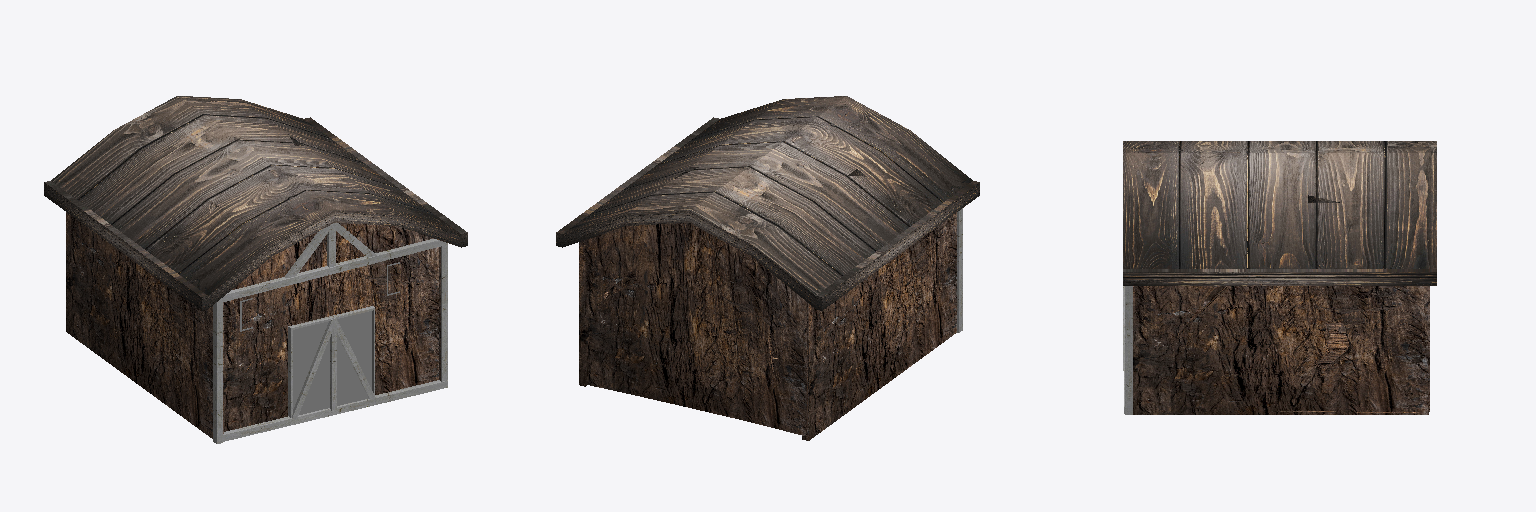
3 views of the same model, side by side, from view 1: azimuth 30°, elevation 25°; view 2: azimuth 150°, elevation 25°; view 3: azimuth 270°, elevation 25° (orthographic).
Visible parts, largest first — view 1: barn_roof_final, barn_roof, hole, door, querbalkenWR02, querbalkenWR, querbalkenSR02, querbalkenSR, edges_door, querbalkenSR005, querbalkenSR04, querbalkenSR006 (+1 smaller); view 2: barn_roof_final, barn_roof, hole, querbalkenSR02; view 3: barn_roof_final, hole_outerwall_2, barn_roof, querbalkenSR.
Part boxes in pixels (left/top/right/bottom): barn_roof_final: left=44, top=96, right=467, bottom=310; barn_roof: left=224, top=223, right=438, bottom=431; hole: left=66, top=212, right=223, bottom=438; door: left=293, top=310, right=373, bottom=414; querbalkenWR02: left=218, top=239, right=447, bottom=302; querbalkenWR: left=213, top=380, right=447, bottom=442; querbalkenSR02: left=213, top=298, right=222, bottom=443; querbalkenSR: left=441, top=245, right=447, bottom=381; edges_door: left=288, top=306, right=374, bottom=417; querbalkenSR005: left=292, top=320, right=332, bottom=419; querbalkenSR04: left=330, top=318, right=336, bottom=410; querbalkenSR006: left=333, top=318, right=375, bottom=400; barn_roof_final: left=556, top=96, right=979, bottom=310; barn_roof: left=579, top=171, right=860, bottom=436; hole: left=802, top=213, right=956, bottom=440; querbalkenSR02: left=957, top=208, right=962, bottom=332; barn_roof_final: left=1123, top=141, right=1436, bottom=285; hole_outerwall_2: left=1133, top=286, right=1428, bottom=414; barn_roof: left=1187, top=286, right=1429, bottom=412; querbalkenSR: left=1125, top=286, right=1132, bottom=414.
Bounding box in the file's own units: 1815 × 1340 × 1860.
8 materials, 4 textured.